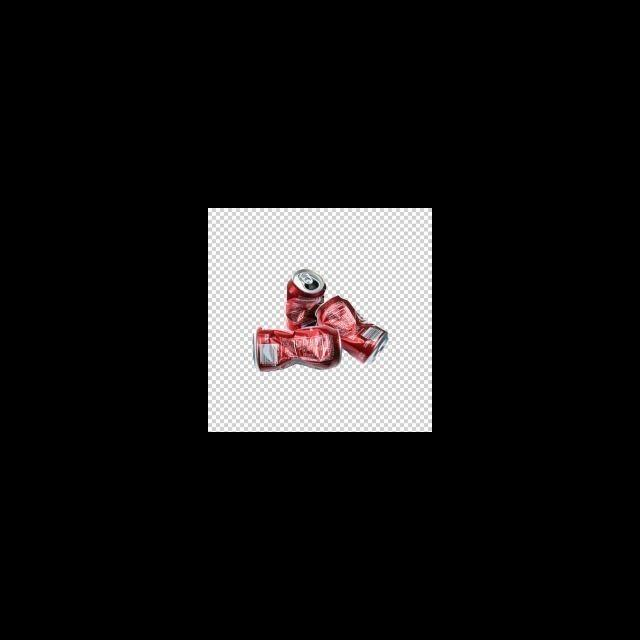metal: (314, 295, 393, 367), (251, 322, 345, 374), (283, 264, 328, 329)
